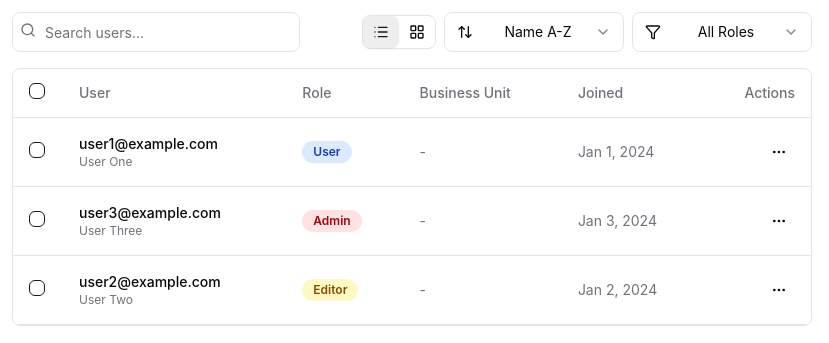
Test case: UsersTable › Table View - Dropdown Menu Layout Stability › dropdown menu renders in a portal (outside table container)
Click the button named "open menu" in the row of "user1@example.com" at (779, 152), box top-left (763, 136), bottom-right (795, 168)
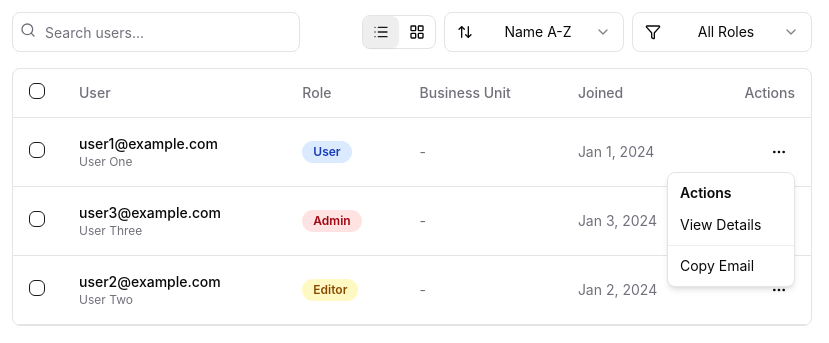
Expected: the menu is shown, top-left (667, 172), bottom-right (795, 287)
